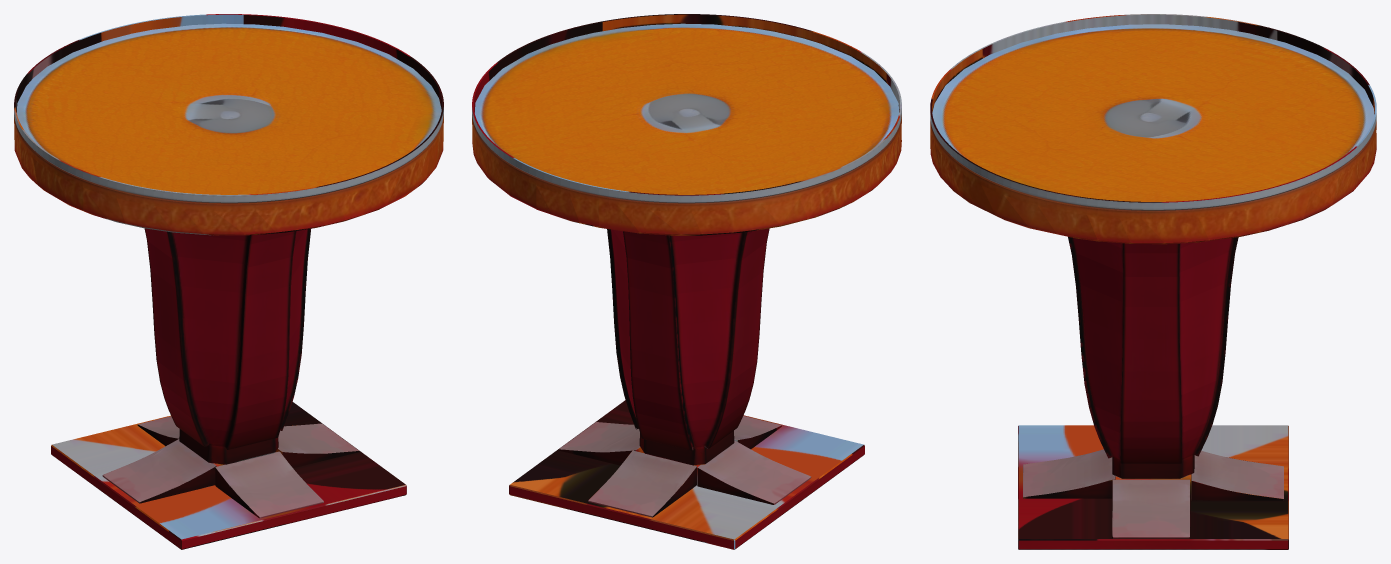
File: edited_mesh.glb
3 renders of one model, left to right at view 1: azimuth 30°, elevation 25°; view 2: azimuth 150°, elevation 25°; view 3: azimuth 270°, elevation 25°, orthographic. The views are drawn at different scales.
Visible parts, largest first — view 1: solid_001_wire; view 2: solid_001_wire; view 3: solid_001_wire.
Part boxes in pixels (bbox=[...]): solid_001_wire: bbox=[14, 14, 443, 549]; solid_001_wire: bbox=[472, 14, 901, 549]; solid_001_wire: bbox=[930, 14, 1376, 549].
Bounding box in the file's own units: 1.38 × 1.31 × 1.38.
Materials: 1 (1 with a texture image).
